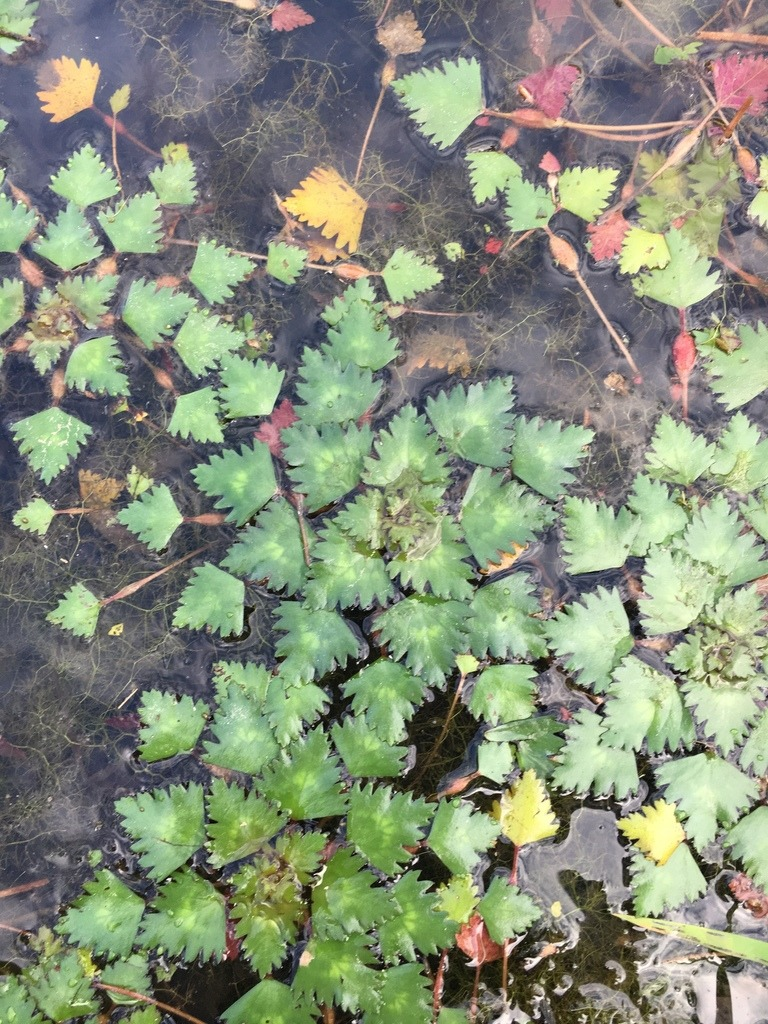water chestnut: (3, 10, 765, 1018)
